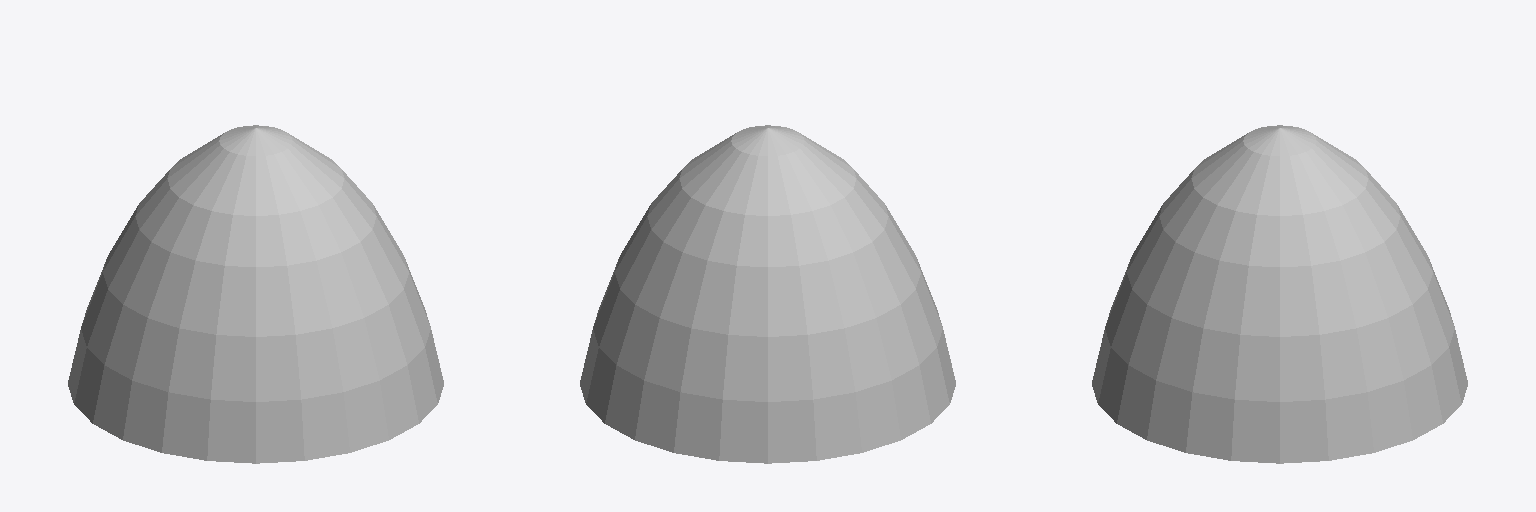
File: gizmo_arrow.obj
3 views of the same model, side by side, from view 1: azimuth 30°, elevation 25°; view 2: azimuth 150°, elevation 25°; view 3: azimuth 270°, elevation 25° (orthographic).
Parts seen in each view (by area): view 1: Cone; view 2: Cone; view 3: Cone.
Part boxes in pixels (left/top/right/bottom): Cone: left=68, top=125, right=443, bottom=463; Cone: left=580, top=125, right=955, bottom=463; Cone: left=1092, top=125, right=1467, bottom=463.
Bounding box in the file's own units: 1 × 0.75 × 1.